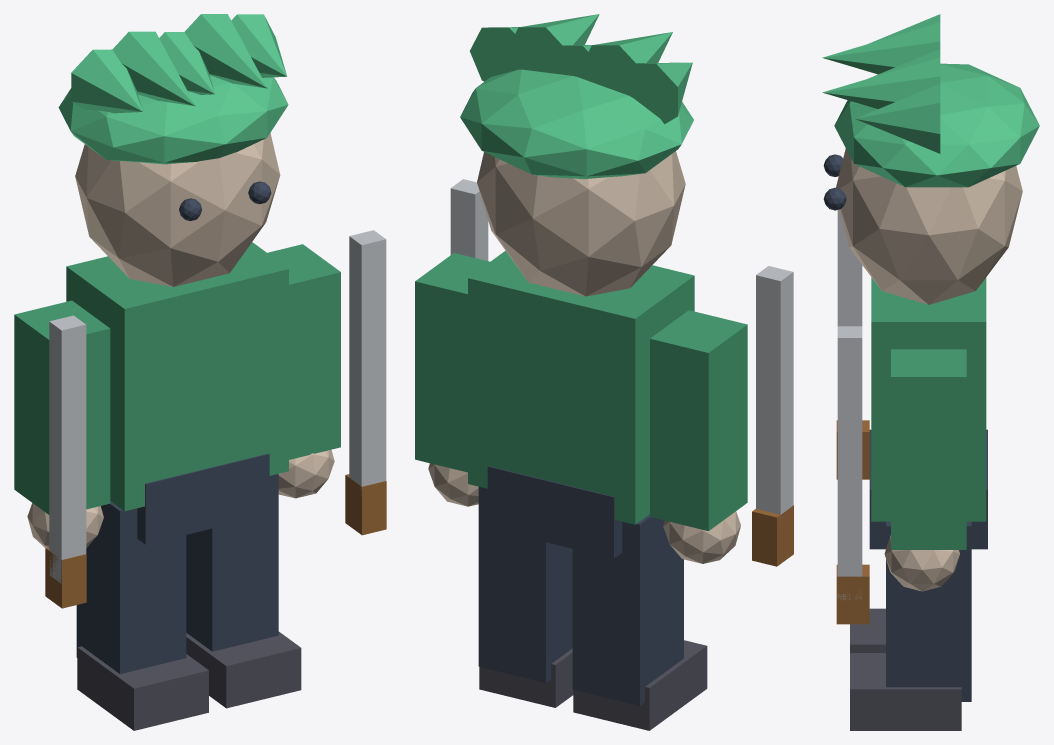
The model's file is zoro.glb.
The picture shows the model from 3 angles, left to right: view 1: azimuth 30°, elevation 25°; view 2: azimuth 150°, elevation 25°; view 3: azimuth 270°, elevation 25°; orthographic projection. The views are drawn at different scales.
Visible parts, largest first — view 1: part_000, part_010, part_004, part_013, part_002, part_008, part_006, part_020, part_022, part_001, part_005, part_009 (+9 smaller); view 2: part_000, part_010, part_002, part_013, part_004, part_008, part_006, part_022, part_001, part_005, part_017, part_014 (+8 smaller); view 3: part_010, part_006, part_013, part_000, part_008, part_020, part_009, part_018, part_017, part_015, part_007, part_022 (+5 smaller).
Part boxes in pixels (x1,y1,x2,y2): part_000: (66, 242, 288, 511); part_010: (75, 133, 280, 286); part_004: (76, 501, 186, 673); part_013: (58, 75, 288, 164); part_002: (14, 300, 110, 514); part_008: (186, 474, 278, 651); part_006: (267, 244, 340, 459); part_020: (349, 230, 386, 495); part_022: (49, 315, 86, 583); part_001: (137, 453, 269, 544); part_005: (77, 646, 208, 730); part_009: (186, 631, 301, 708); part_000: (468, 251, 694, 524); part_010: (477, 151, 685, 296); part_002: (650, 310, 747, 530); part_013: (460, 69, 693, 179); part_004: (572, 514, 683, 705); part_008: (478, 486, 572, 682); part_006: (415, 253, 489, 472); part_022: (756, 266, 793, 524); part_001: (487, 466, 622, 558); part_005: (573, 640, 707, 730); part_017: (506, 14, 599, 74); part_014: (616, 62, 692, 124); part_010: (836, 148, 1022, 304); part_006: (891, 349, 966, 549); part_013: (834, 63, 1039, 187); part_000: (871, 277, 986, 521); part_008: (886, 521, 971, 701); part_020: (837, 326, 862, 599); part_009: (850, 653, 961, 730); part_018: (855, 84, 940, 153); part_017: (822, 57, 940, 108); part_015: (822, 22, 940, 74); part_007: (884, 535, 959, 591); part_022: (837, 209, 862, 326).
Bounding box in the file's own units: 1.12 × 2.17 × 0.6628.
